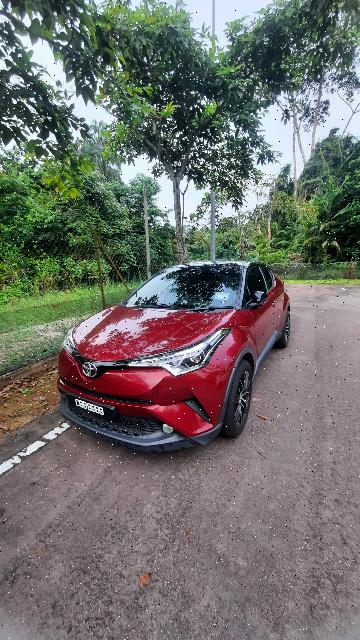License_Plate: (71, 397, 118, 430)
car: (51, 257, 300, 459)
